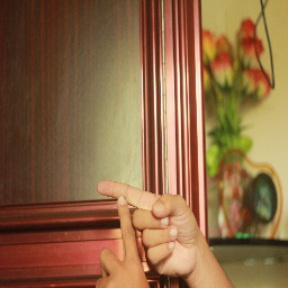T: (81, 171, 187, 287)
